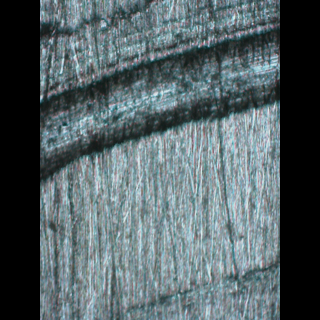d: (39, 0, 279, 192)
